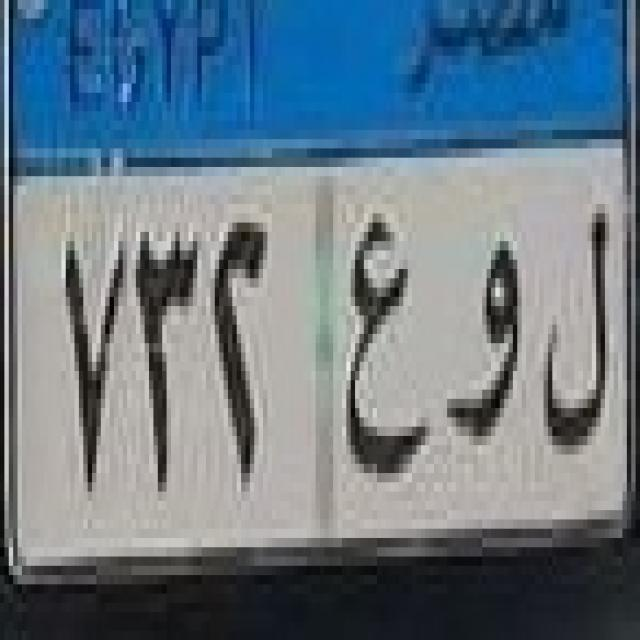2: (207, 206, 284, 502)
3: (129, 215, 204, 504)
7: (50, 214, 132, 500)
Een: (328, 208, 438, 501)
Laam: (538, 210, 618, 480)
Wow: (444, 231, 528, 458)
